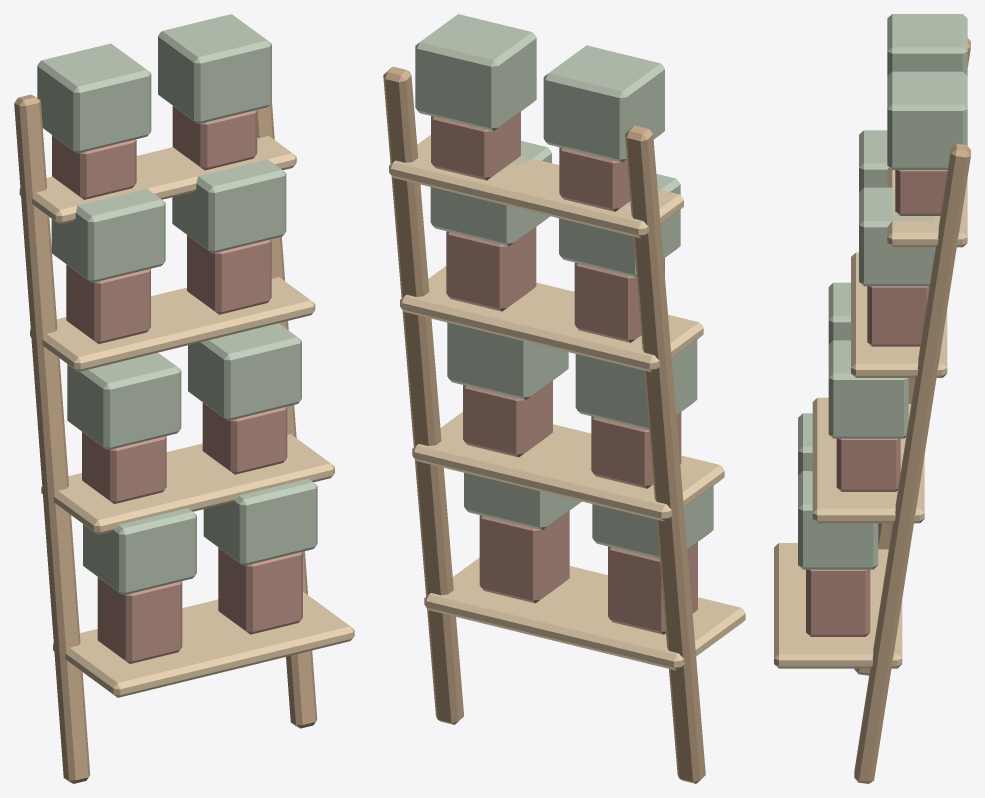
File: PlantLadderShelf.glb
The picture shows the model from 3 angles, left to right: view 1: azimuth 30°, elevation 25°; view 2: azimuth 150°, elevation 25°; view 3: azimuth 270°, elevation 25°; orthographic projection. The views are drawn at different scales.
Parts seen in each view (by area): view 1: PlantLadderShelf_Body; view 2: PlantLadderShelf_Body; view 3: PlantLadderShelf_Body.
Part boxes in pixels (x1,y1,x2,y2): PlantLadderShelf_Body: (14, 14, 354, 783); PlantLadderShelf_Body: (383, 14, 745, 783); PlantLadderShelf_Body: (774, 14, 970, 783).
Size of the model in its own units: 0.7 by 1.83 by 0.4915.
